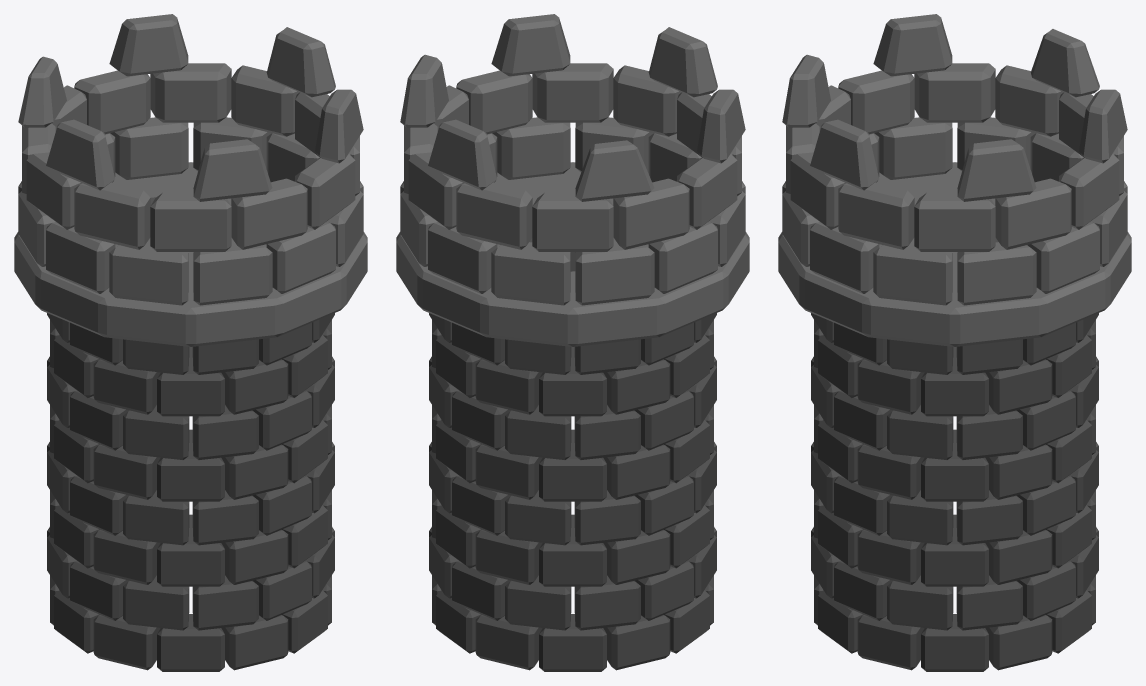
Rendered from Tower3.glb.
3 renders of one model, left to right at view 1: azimuth 30°, elevation 25°; view 2: azimuth 150°, elevation 25°; view 3: azimuth 270°, elevation 25°, orthographic.
Visible parts, largest first — view 1: Tower_1; view 2: Tower_1; view 3: Tower_1.
Part boxes in pixels (<box>): Tower_1: <box>14,14,367,671</box>; Tower_1: <box>396,14,749,671</box>; Tower_1: <box>778,14,1131,671</box>.
Size of the model in its own units: 2.11 by 3.5 by 2.11.
1 material, 1 textured.
